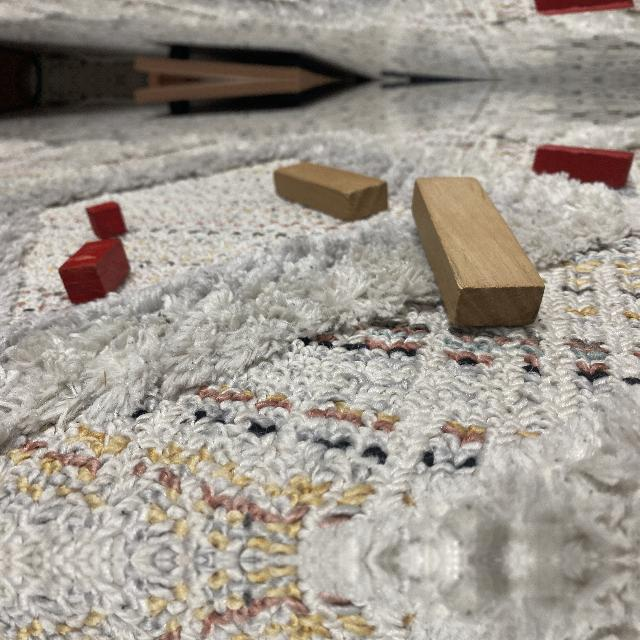jenga: (412, 177, 546, 333), (272, 163, 390, 223)
red block: (58, 239, 130, 304), (532, 145, 634, 190), (533, 0, 634, 15)
red cube: (86, 201, 128, 238)
